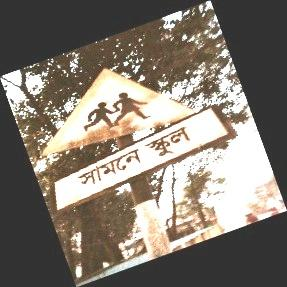School-in-front: (44, 67, 231, 214)
